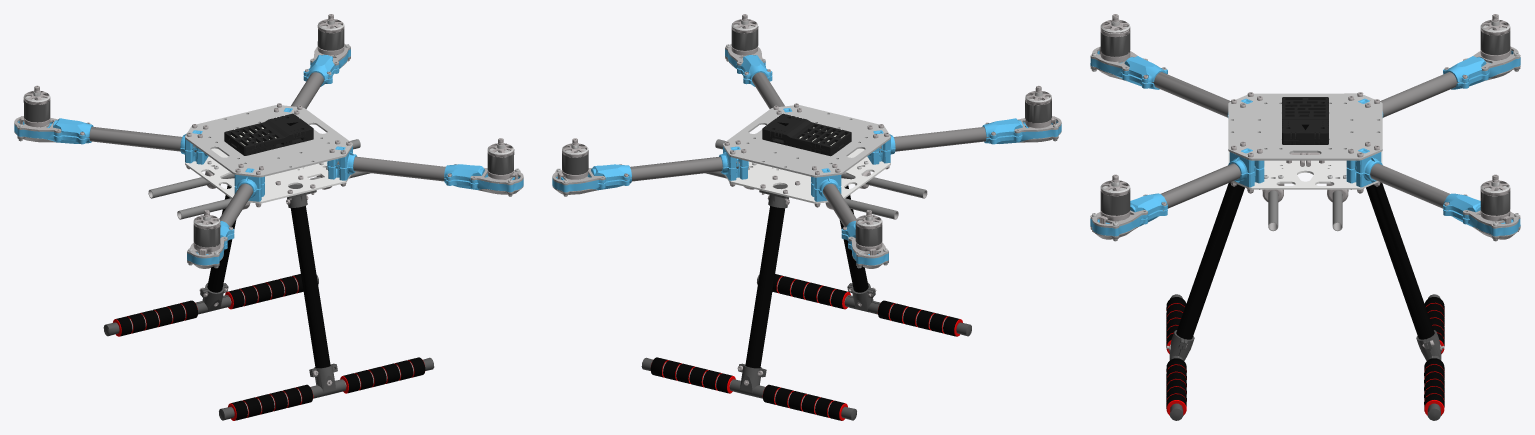
The model's file is uav_frame_x500_simple.dae.
The picture shows the model from 3 angles, left to right: view 1: azimuth 30°, elevation 25°; view 2: azimuth 150°, elevation 25°; view 3: azimuth 270°, elevation 25°; orthographic projection. The views are drawn at different scales.
Parts seen in each view (by area): view 1: x500_simple; view 2: x500_simple; view 3: x500_simple.
Part boxes in pixels (x1,y1,x2,y2): x500_simple: [14, 14, 523, 420]; x500_simple: [552, 14, 1061, 420]; x500_simple: [1090, 14, 1520, 420].
Size of the model in its own units: 0.4004 by 0.4004 by 0.2788.
